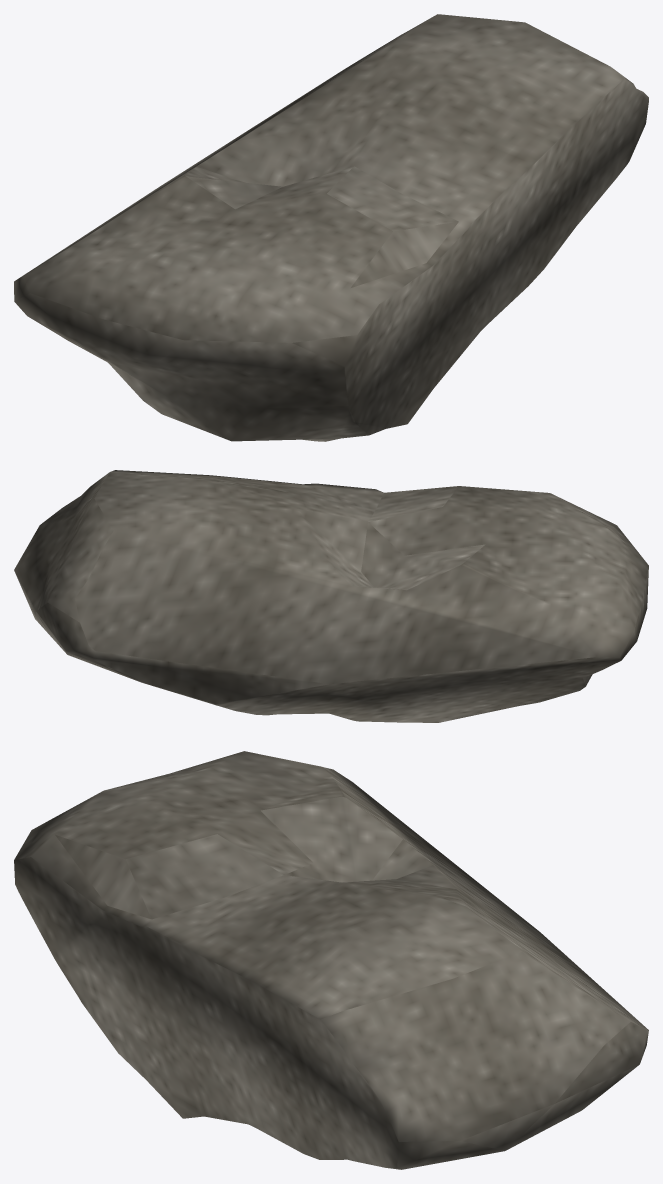
Rendered from boulder_4.glb.
The picture shows the model from 3 angles, top to bottom: view 1: azimuth 30°, elevation 25°; view 2: azimuth 150°, elevation 25°; view 3: azimuth 270°, elevation 25°; orthographic projection. The views are drawn at different scales.
Parts seen in each view (by area): view 1: boulder_4; view 2: boulder_4; view 3: boulder_4.
Boxes of the visible parts, x1=… form: boulder_4: x1=14, y1=14, x2=648, y2=441; boulder_4: x1=14, y1=470, x2=648, y2=722; boulder_4: x1=14, y1=751, x2=648, y2=1169.
Bounding box in the file's own units: 3.81 × 1.51 × 2.94.
Materials: 1 (1 with a texture image).
